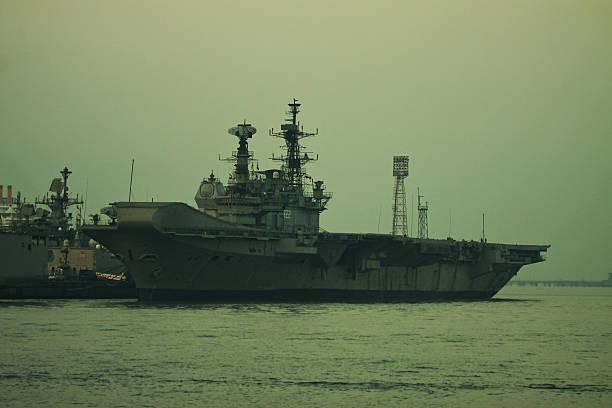MIL_Ship: (87, 102, 548, 304)
